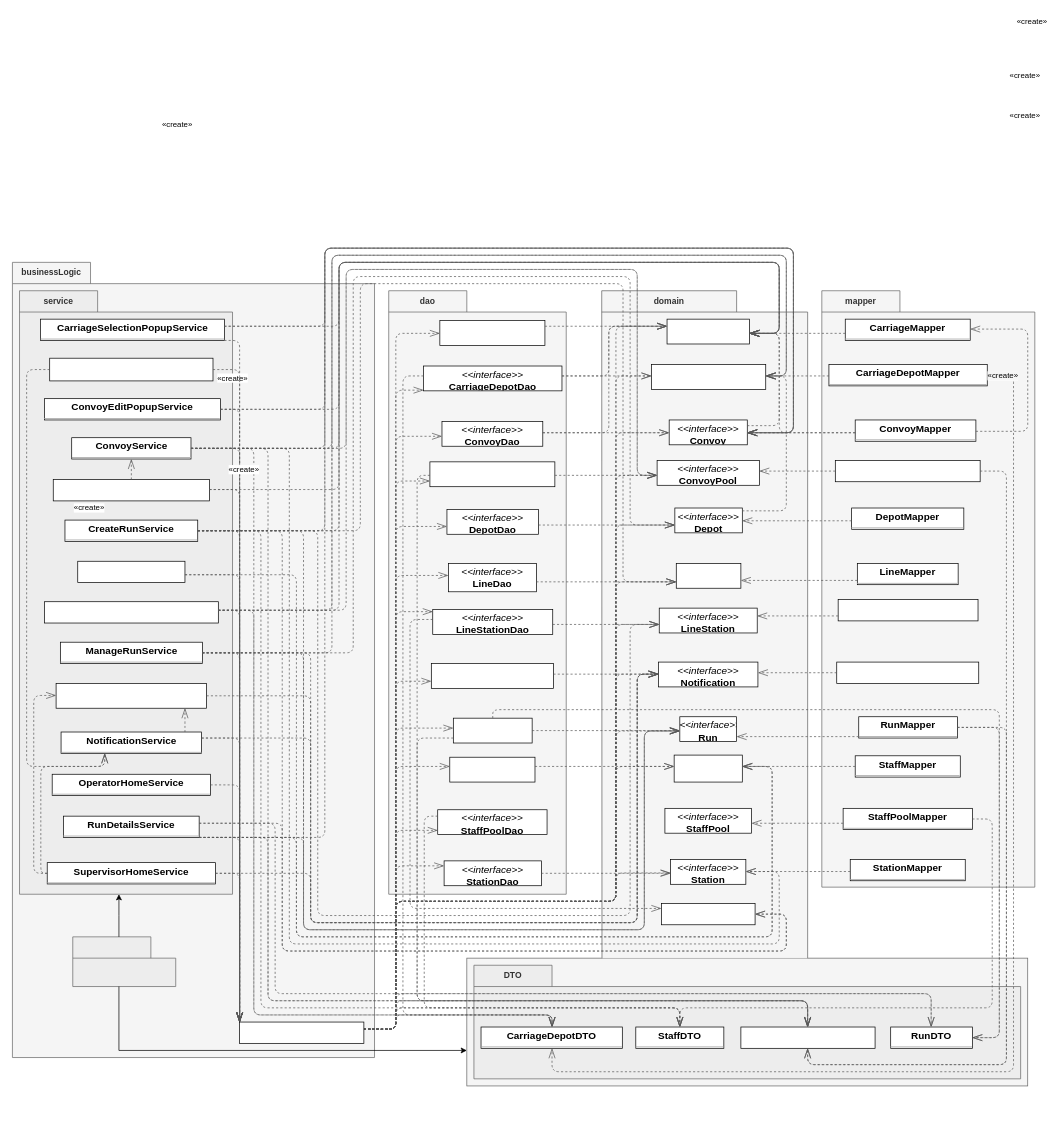
This 1060x1141 diagram has some shape labels left out. Each missing label, with the centre of its shape:
<<interface>> Carriage: [707,331]
<<interface>> CarriageDao: [492,332]
<<interface>> CarriageDepot: [708,376]
<<interface>> ConvoyPoolDao: [492,474]
<<interface>> Line: [708,575]
<<interface>> NotificationDao: [492,675]
<<interface>> NotificationObserver: [131,695]
<<interface>> RunDao: [492,730]
<<interface>> Staff: [707,768]
<<interface>> StaffDao: [492,769]
Controller: [124,961]
ConvoyDetailsService: [131,369]
ConvoyPoolMapper: [907,471]
ConvoyTableDTO: [807,1037]
CreateConvoyService: [131,490]
LineStationMapper: [907,610]
LogInService: [131,572]
ManageCarriagesService: [131,612]
NotificationMapper: [907,672]
RailSuiteFacade: [301,1032]
TimeTable: [708,914]
